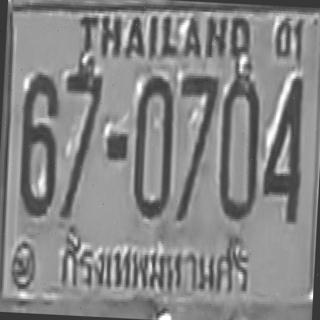N00: (216, 71, 262, 219), (130, 72, 175, 216)
N04: (261, 72, 304, 221)
N06: (17, 70, 60, 213)
N07: (59, 61, 102, 218), (173, 71, 218, 219), (62, 62, 104, 180)
P04: (52, 234, 266, 310)
